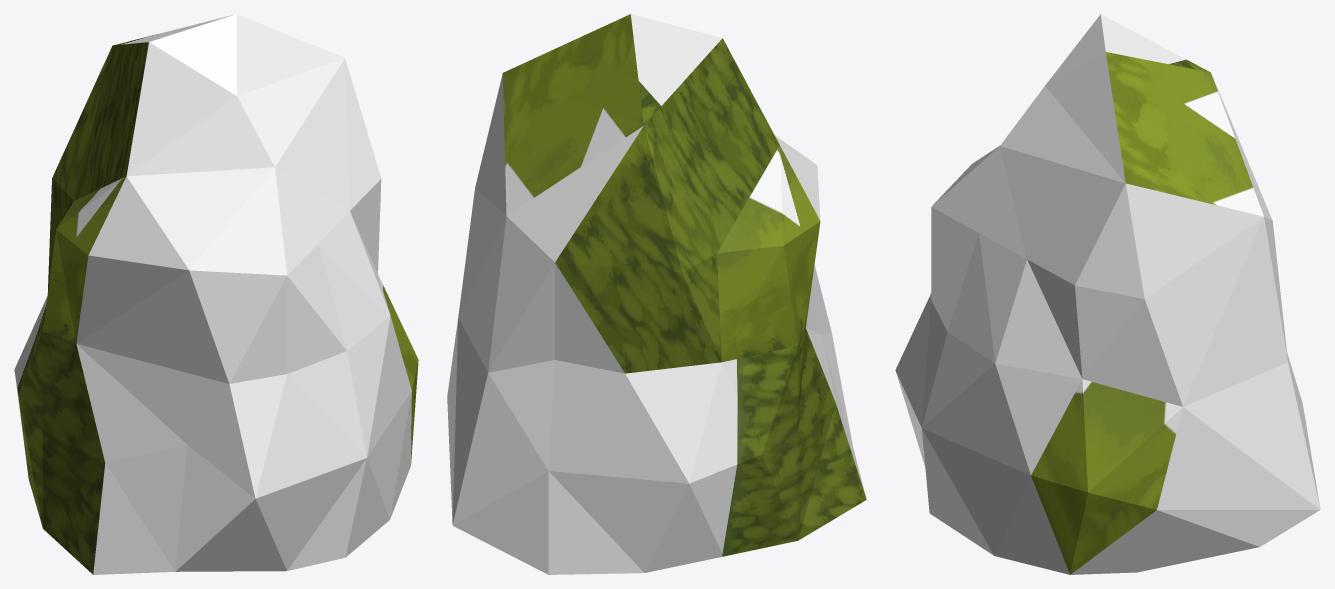
Rendered from Rock 1.fbx.
The picture shows the model from 3 angles, left to right: view 1: azimuth 30°, elevation 25°; view 2: azimuth 150°, elevation 25°; view 3: azimuth 270°, elevation 25°; orthographic projection. The views are drawn at different scales.
Visible parts, largest first — view 1: Rock_1; view 2: Rock_1; view 3: Rock_1.
Boxes of the visible parts, x1,y1,x2,y2 form: Rock_1: (14,14,418,574); Rock_1: (447,14,866,574); Rock_1: (895,14,1320,574).
Size of the model in its own units: 1816 by 2319 by 1941.
